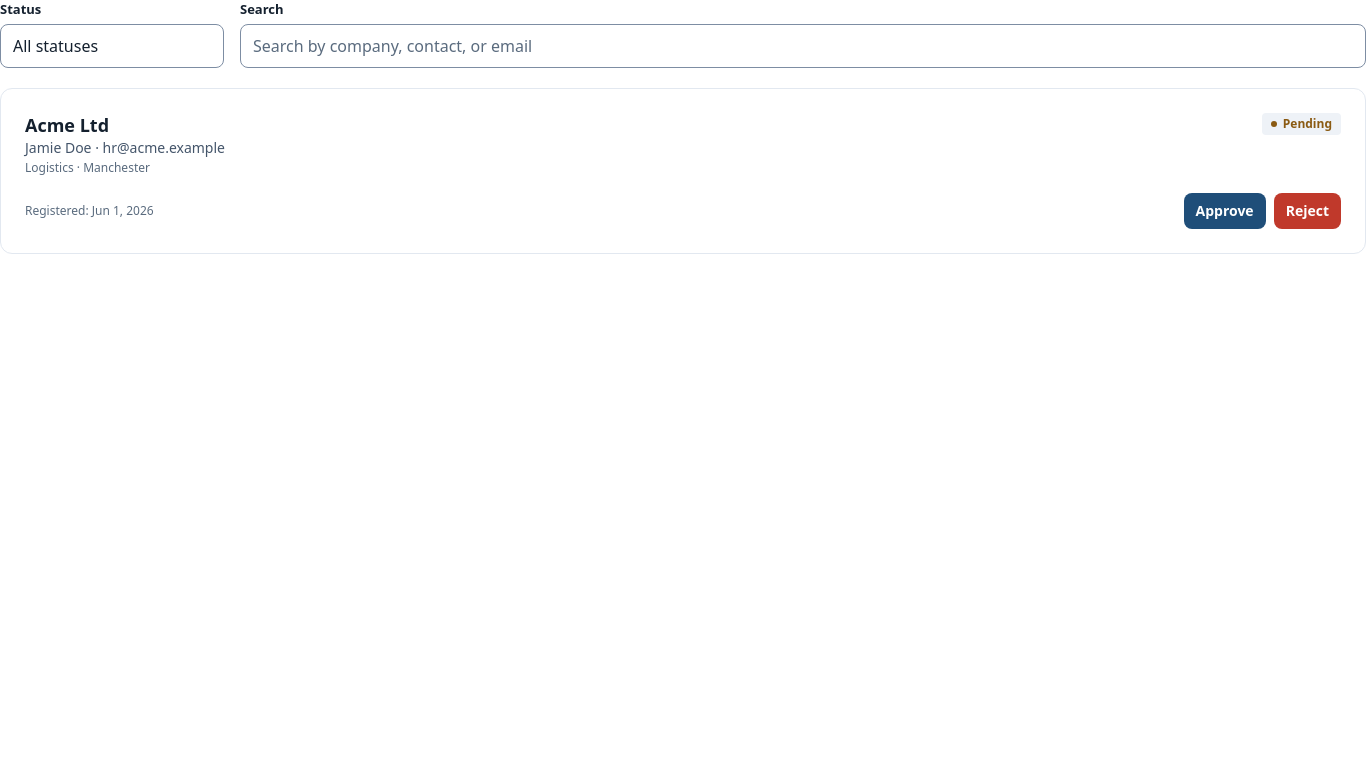
Test: EmployerApprovalQueue › keeps the reject dialog open and surfaces a field error on 400
Click the button "Reject" at (1307, 211), box [1274,193,1341,229]
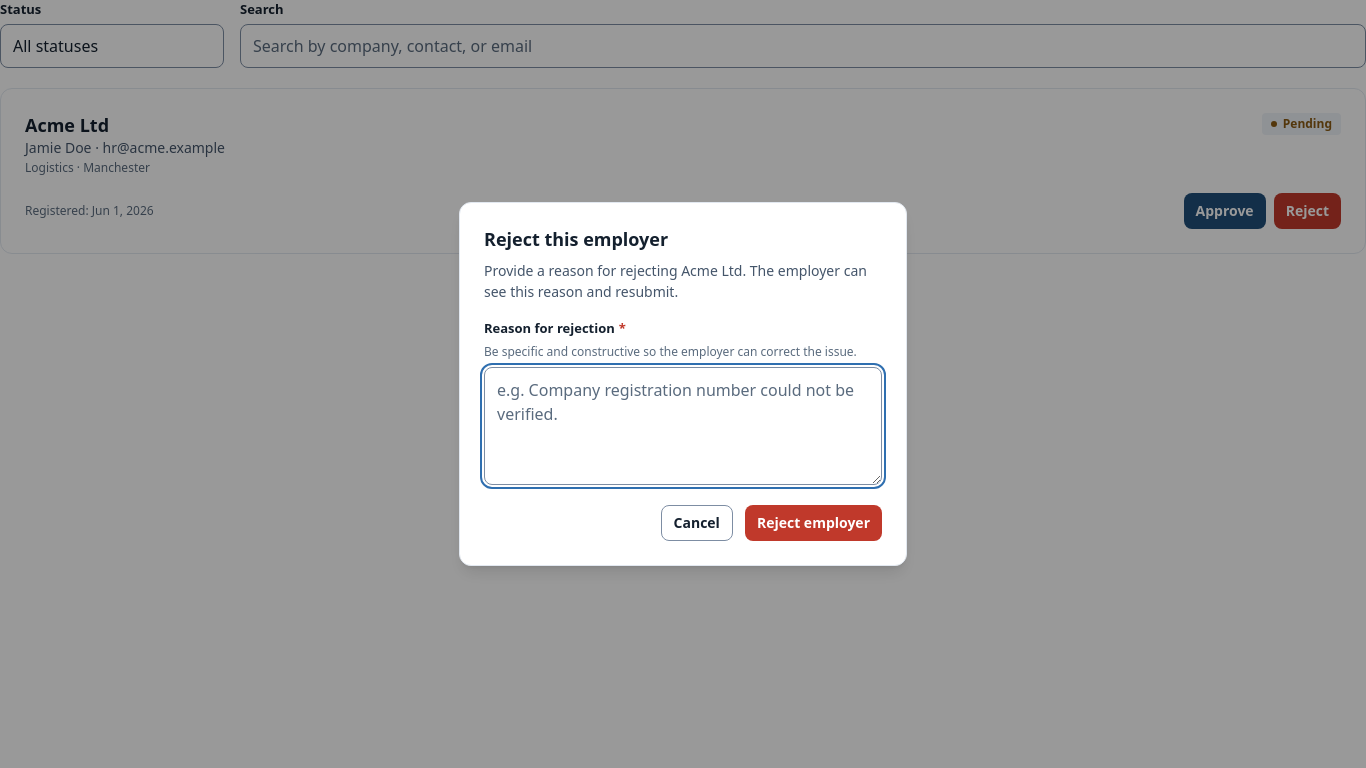
Type "short" into the text box labelled "Reason for rejection*" at (683, 426), box [484,367,882,485]
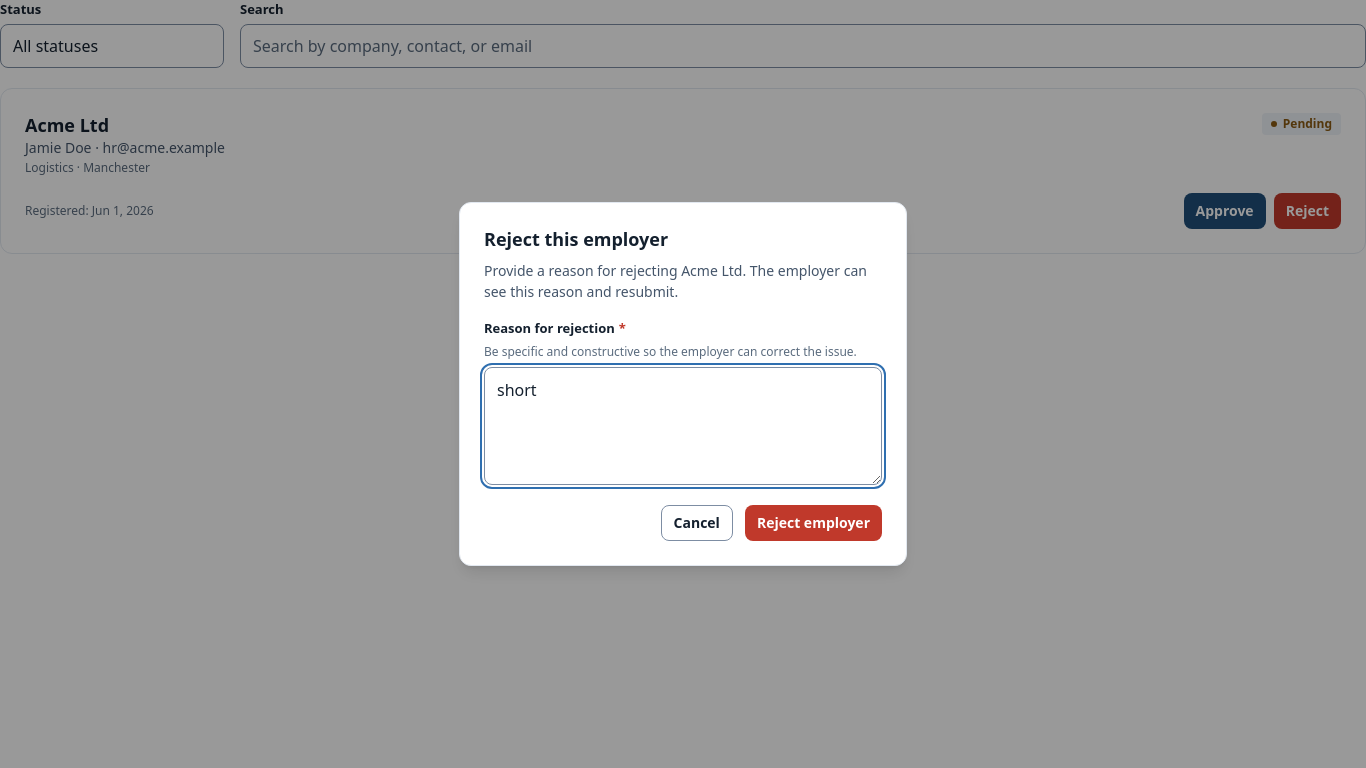
Click the button "Reject employer" at (813, 523), box [745,505,882,541]
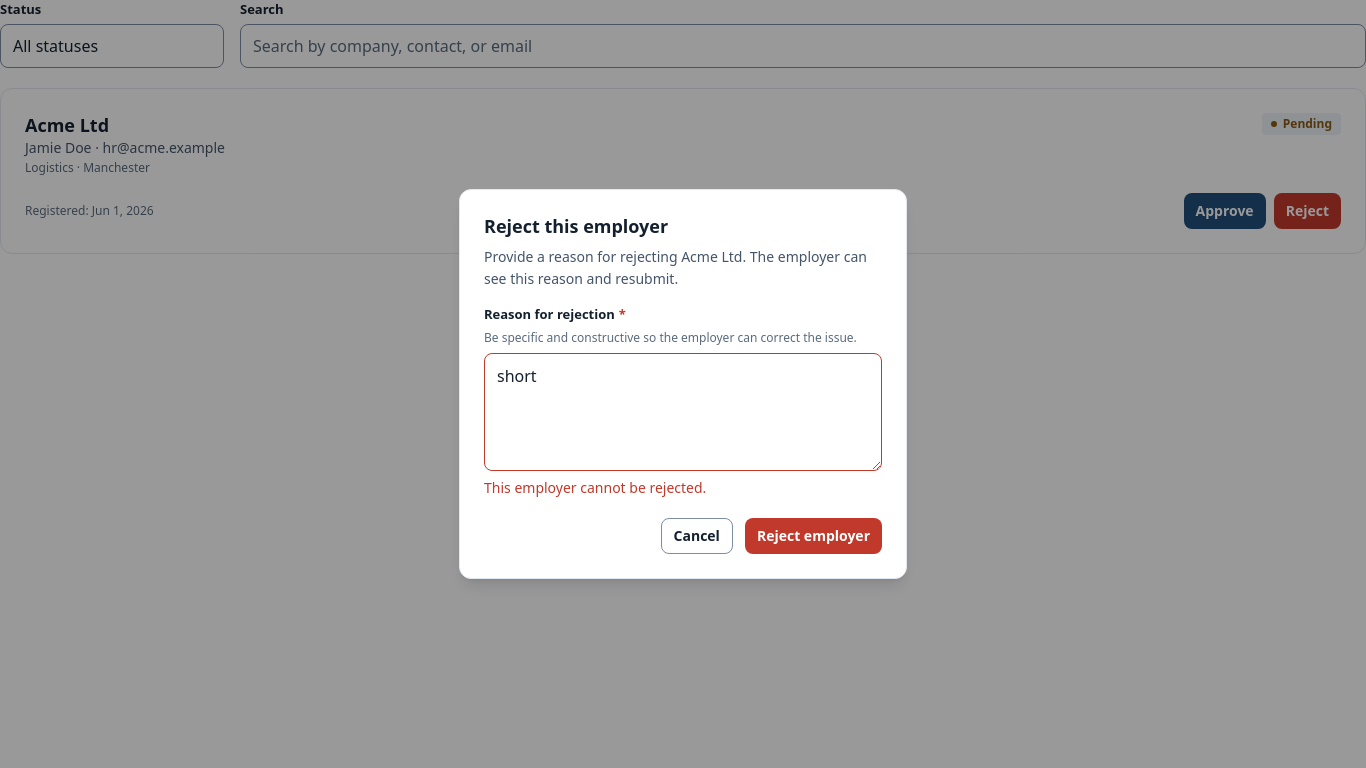
Expected: the dialog is shown, [459,188,907,579]
Expected: the text "This employer cannot be rejected." is shown, [484,478,706,497]
